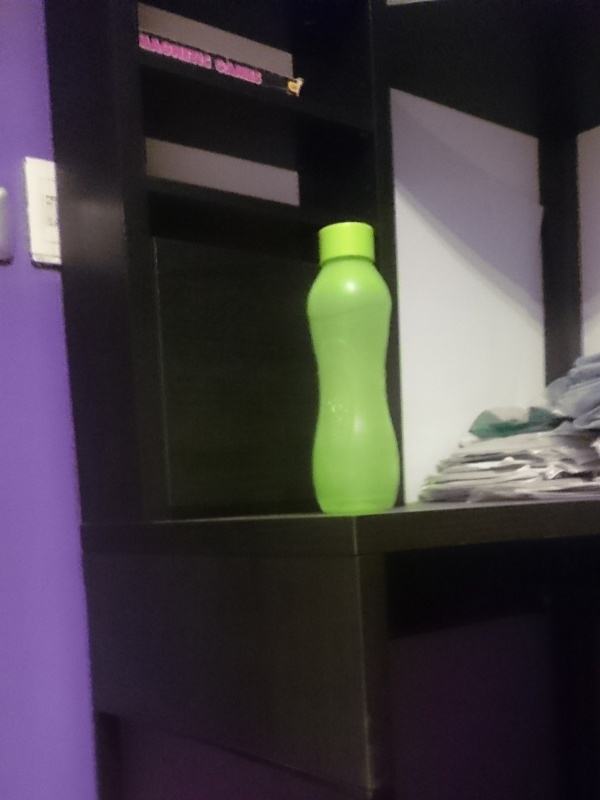my bottle: (304, 220, 399, 516)
